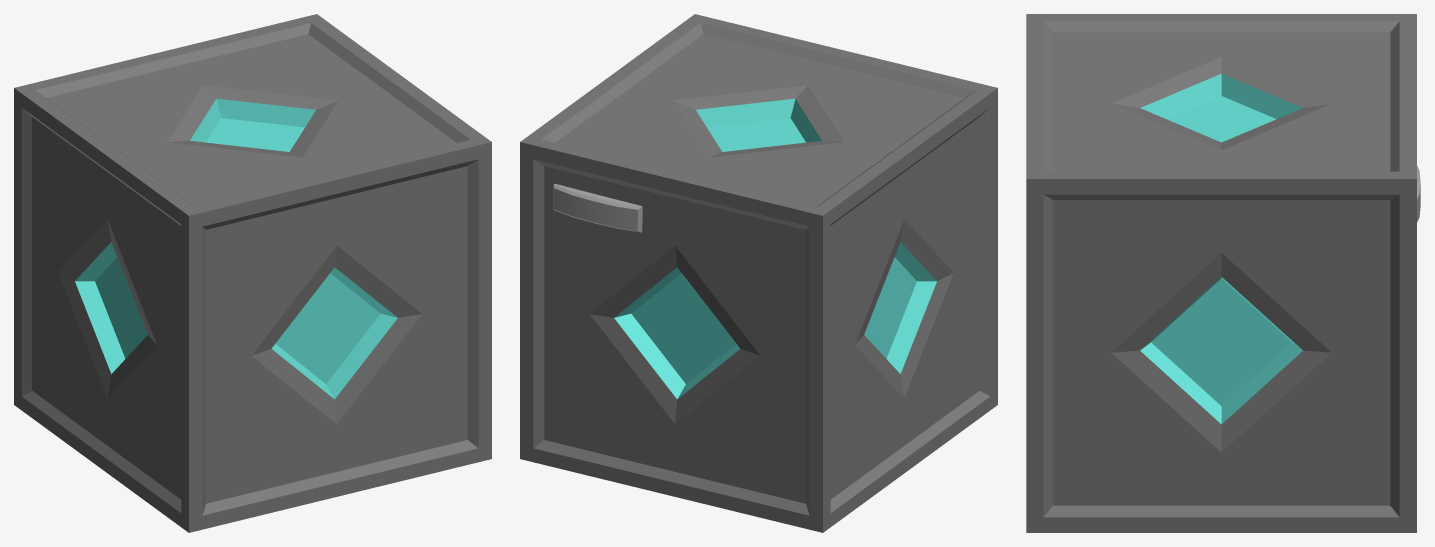
The model's file is Label1.fbx.
3 renders of one model, left to right at view 1: azimuth 30°, elevation 25°; view 2: azimuth 150°, elevation 25°; view 3: azimuth 270°, elevation 25°, orthographic. The views are drawn at different scales.
Parts seen in each view (by area): view 1: Player_1:Player1; view 2: Player_1:Player1; view 3: Player_1:Player1.
Part boxes in pixels (x1,y1,x2,y2): Player_1:Player1: (14, 14, 491, 532); Player_1:Player1: (520, 14, 997, 532); Player_1:Player1: (1026, 14, 1420, 532).
Bounding box in the file's own units: 1.04 × 1.04 × 1.05.
